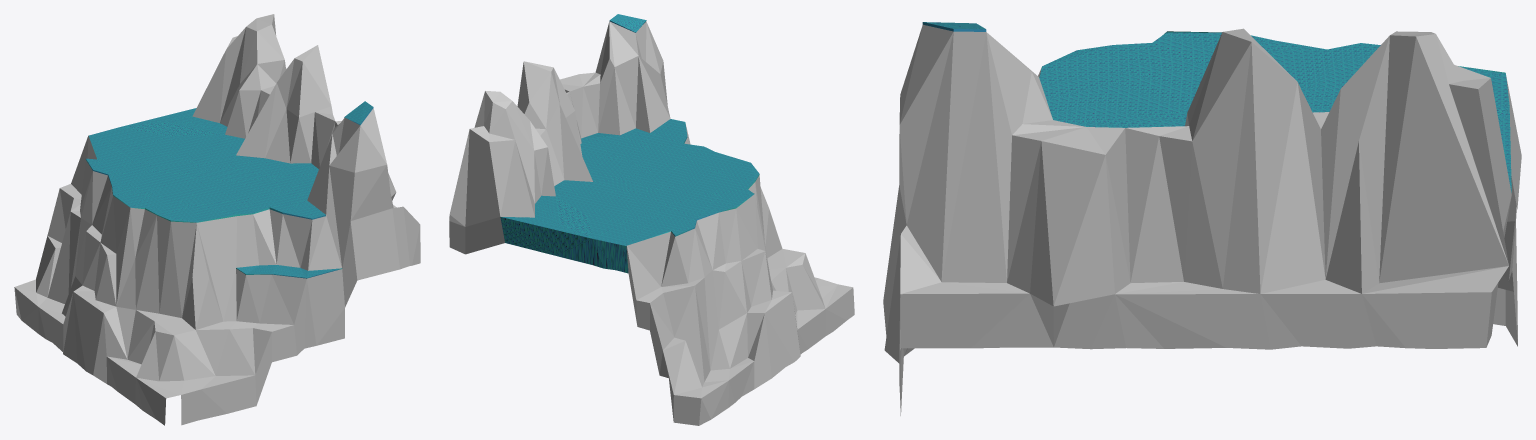
The model's file is Mountain_TownPlateau.fbx.
The picture shows the model from 3 angles, left to right: view 1: azimuth 30°, elevation 25°; view 2: azimuth 150°, elevation 25°; view 3: azimuth 270°, elevation 25°; orthographic projection. The views are drawn at different scales.
Parts seen in each view (by area): view 1: Town; view 2: Town; view 3: Town.
Boxes of the visible parts, <box> form: Town: <box>14,14,420,425</box>; Town: <box>449,14,854,425</box>; Town: <box>883,22,1521,415</box>.
Bounding box in the file's own units: 10727 × 9643 × 10606.
